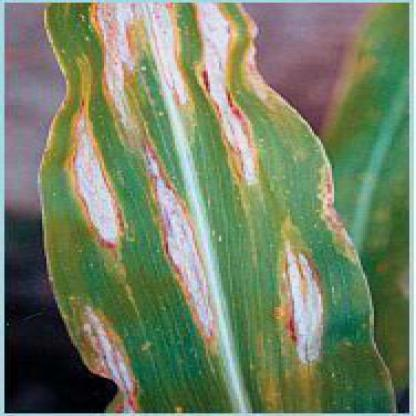Corn leaf blight: (26, 1, 402, 414)
